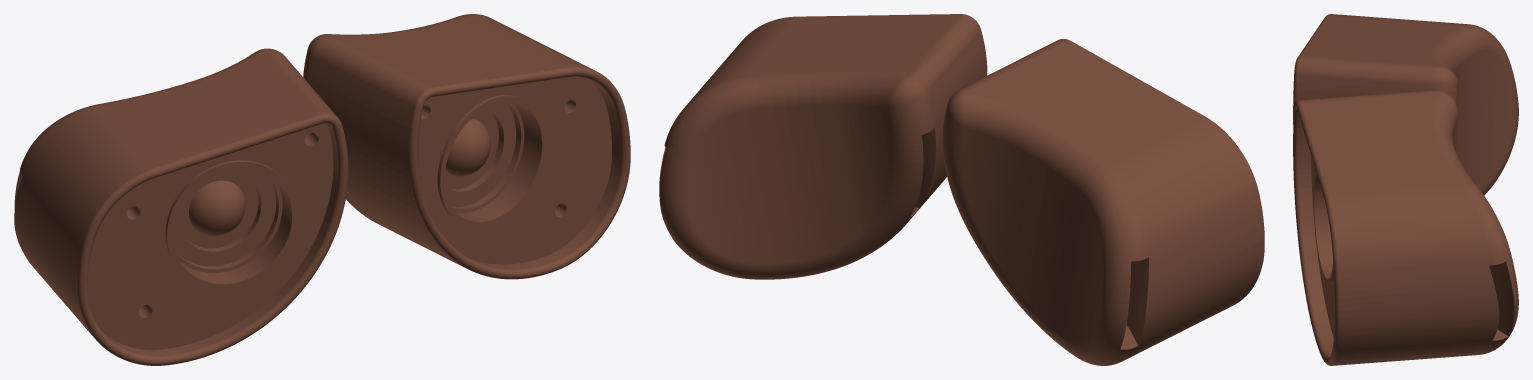
The model's file is wallE_opt.glb.
The picture shows the model from 3 angles, left to right: view 1: azimuth 30°, elevation 25°; view 2: azimuth 150°, elevation 25°; view 3: azimuth 270°, elevation 25°; orthographic projection. The views are drawn at different scales.
Parts seen in each view (by area): view 1: walle_eye (1); view 2: walle_eye (1); view 3: walle_eye (1).
Part boxes in pixels (bbox=[...]): walle_eye (1): bbox=[14, 14, 630, 365]; walle_eye (1): bbox=[659, 14, 1264, 365]; walle_eye (1): bbox=[1293, 14, 1518, 365].
Size of the model in its own units: 240 by 94.62 by 98.14.
